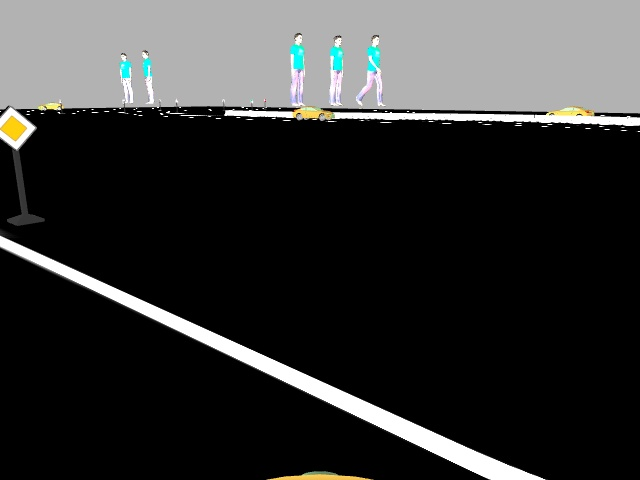Priority: (0, 106, 38, 151)
